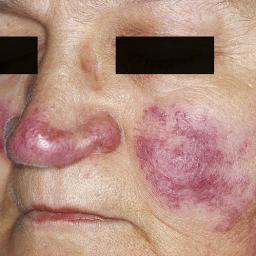nevi: (126, 103, 242, 212)
